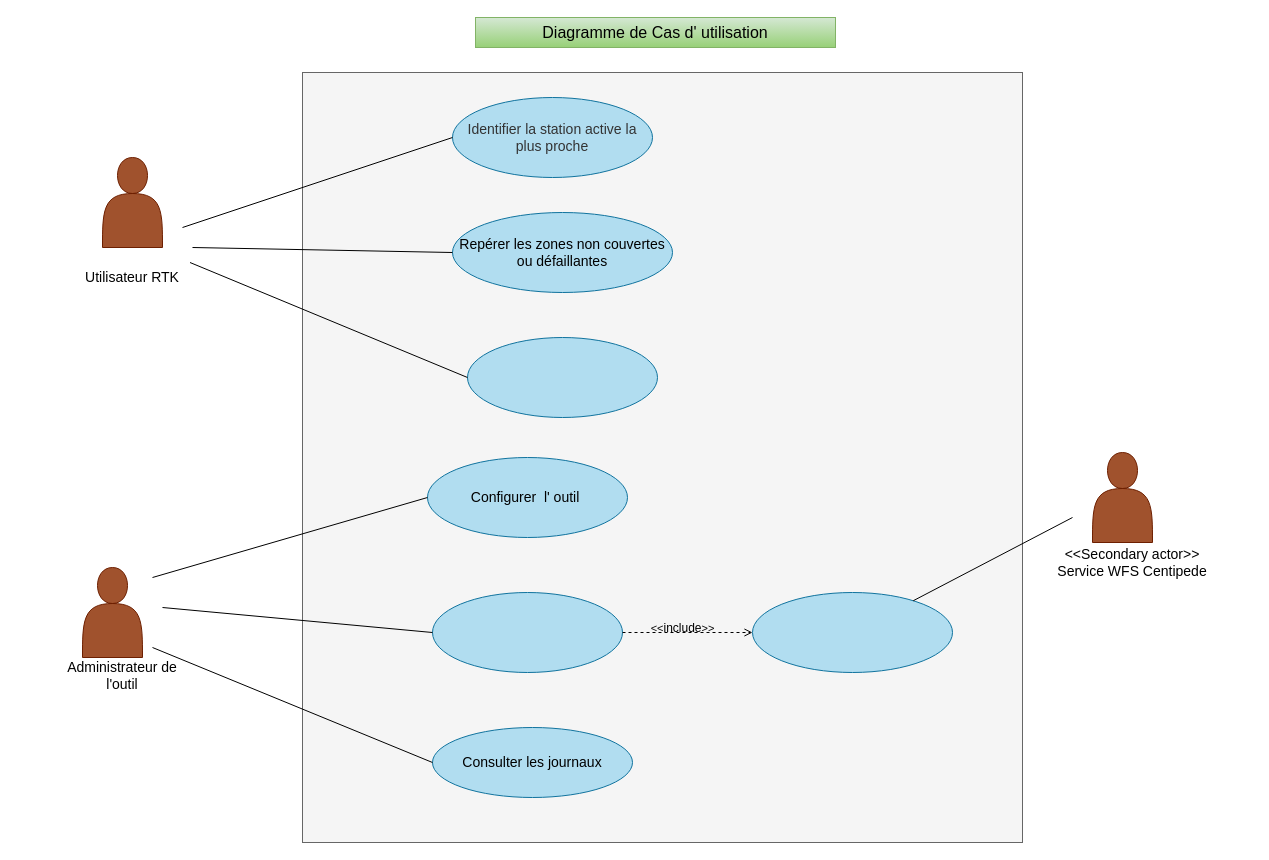
This 1269x860 diagram has some shape labels left out. The centre of each missing label's shape, as x and y in pixels:
"Lancer la mise à jour" belongs at (x=527, y=632).
"Mettre à jour la couverture" belongs at (x=852, y=632).
"Voir la date de dernière mise a jour" belongs at (x=562, y=377).
